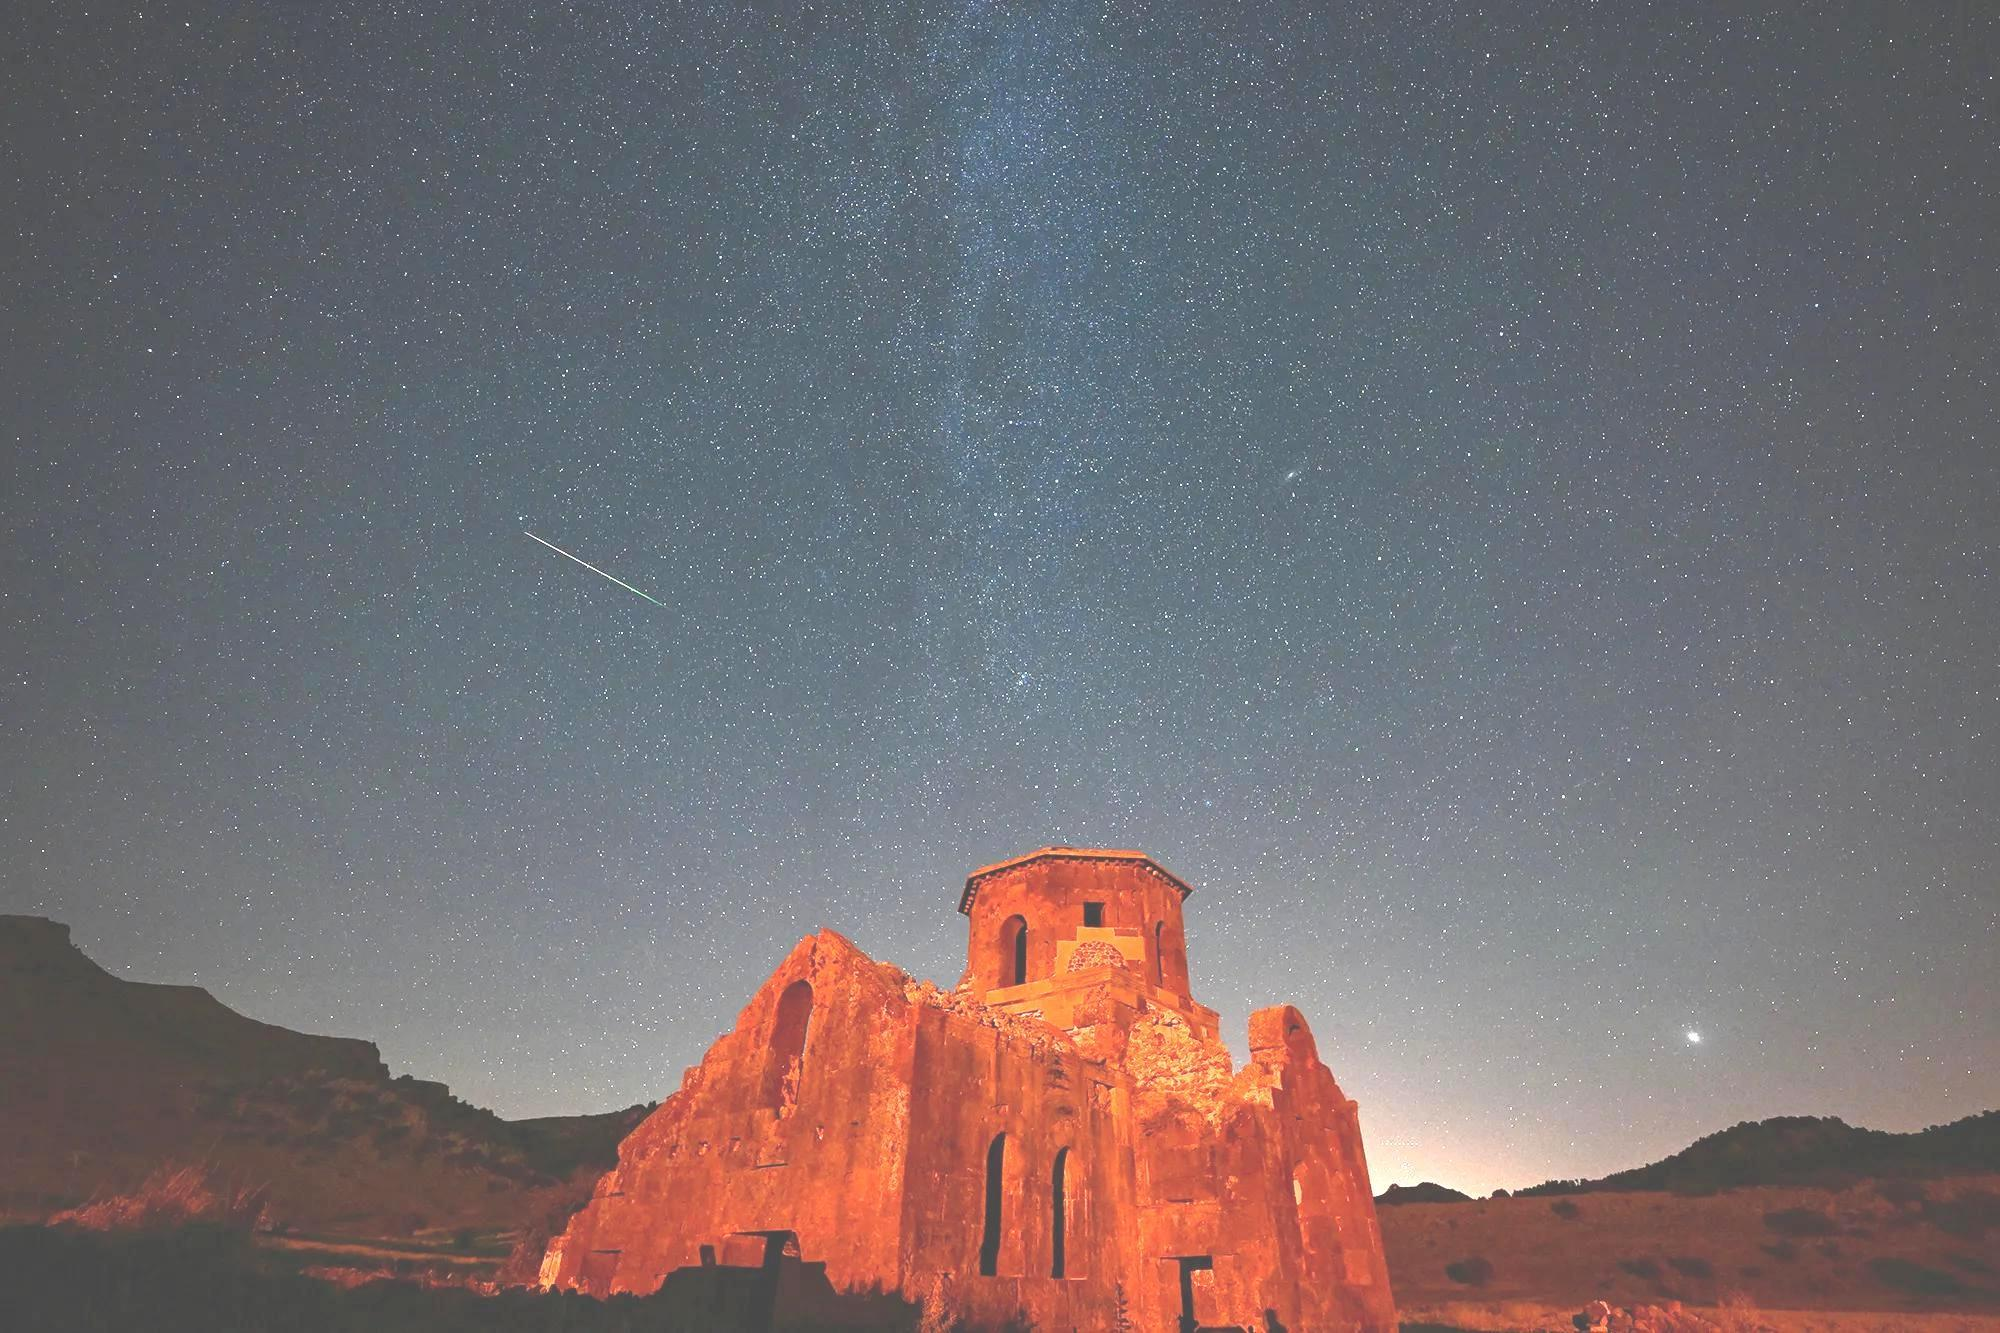meteorite: (501, 515, 708, 626)
